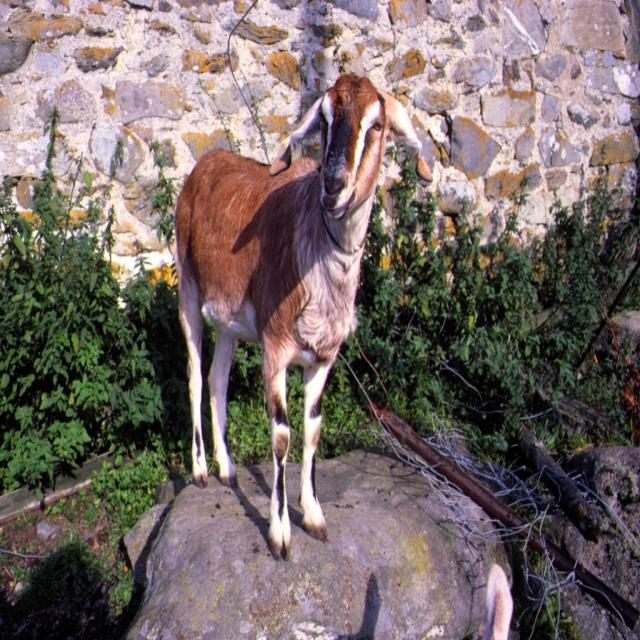Goat: (174, 72, 433, 561)
